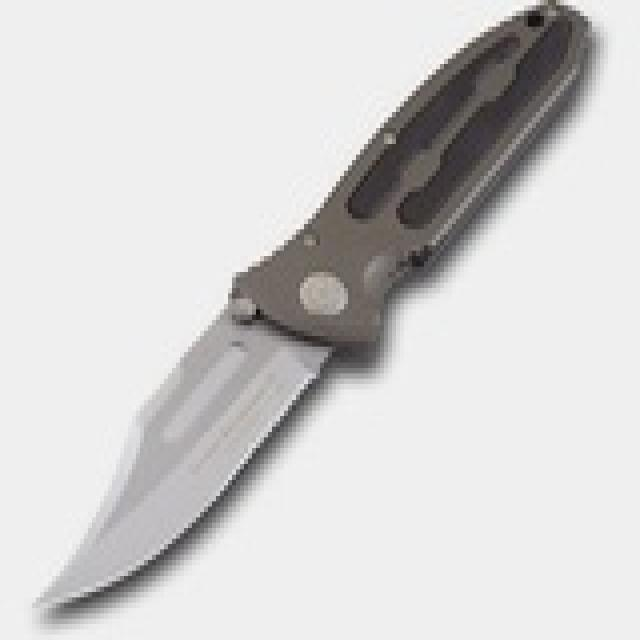Knife: (21, 0, 606, 620)
